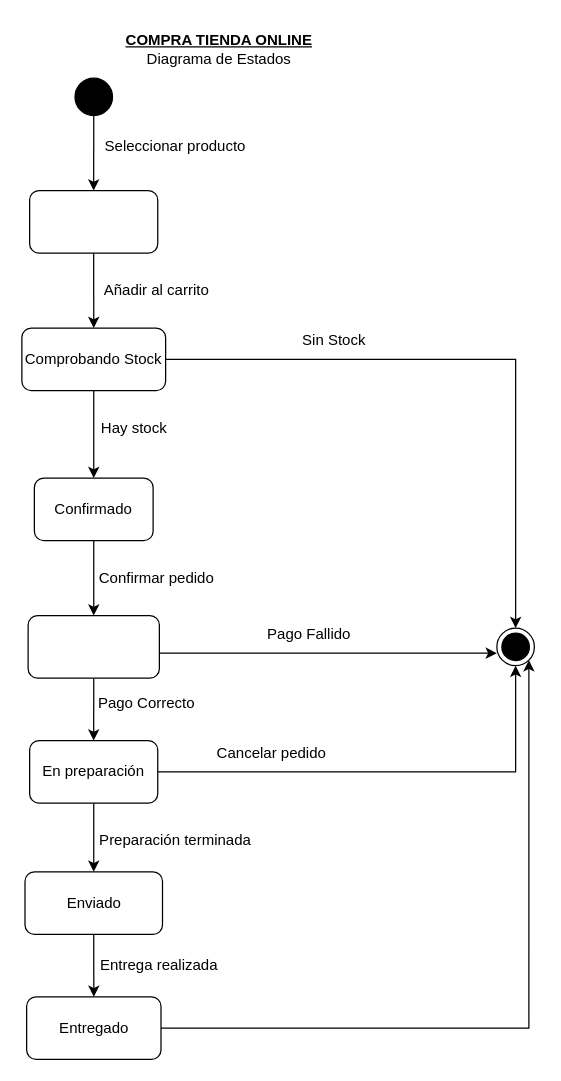
The diagram is 561 pixels wide and 1081 high, and some of its shapes have lost their labels. Here are the shapes that lost their labels. From the top down, the centre of each, then its label:
(93,221): Carrito
(93,646): Pendiente de Pago
